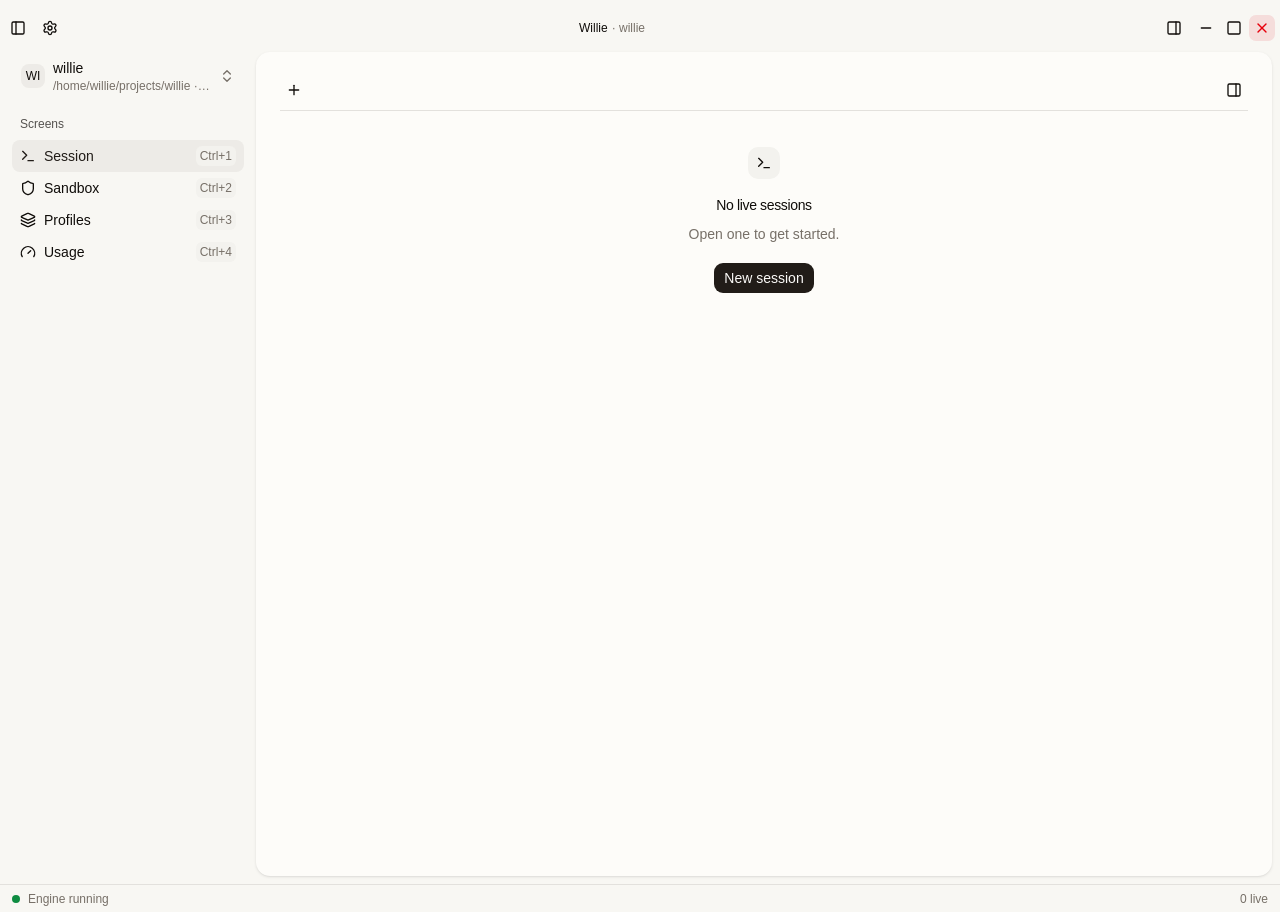
Test: the workspace panel › a_refused_shell_shows_its_remediation_not_a_terminal
The image size is (1280, 912).
Click the button named "Workspace panel" at (1174, 28), box [1160,14,1188,42]
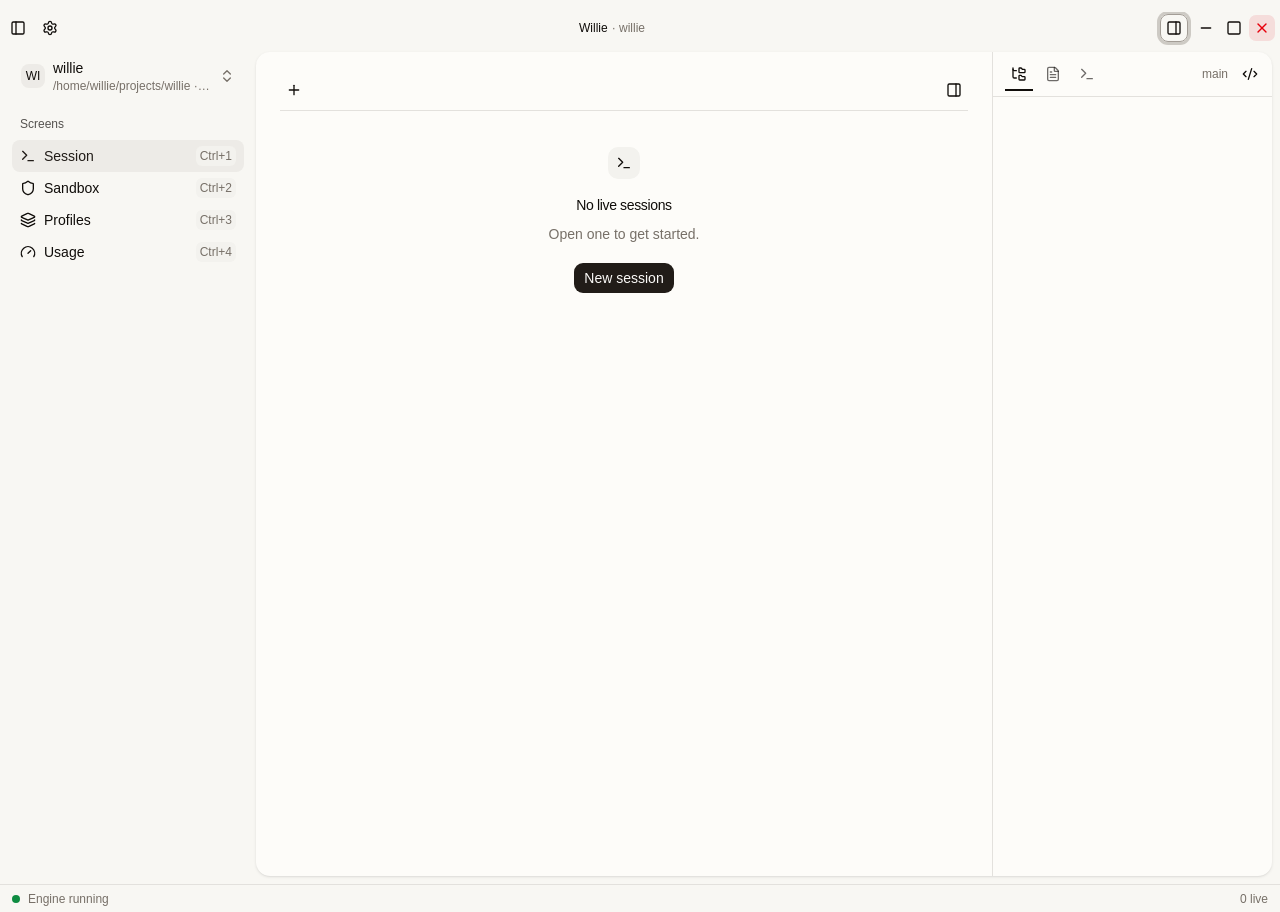
Click the tab named "Shell" at (1087, 74), box [1072,62,1102,86]
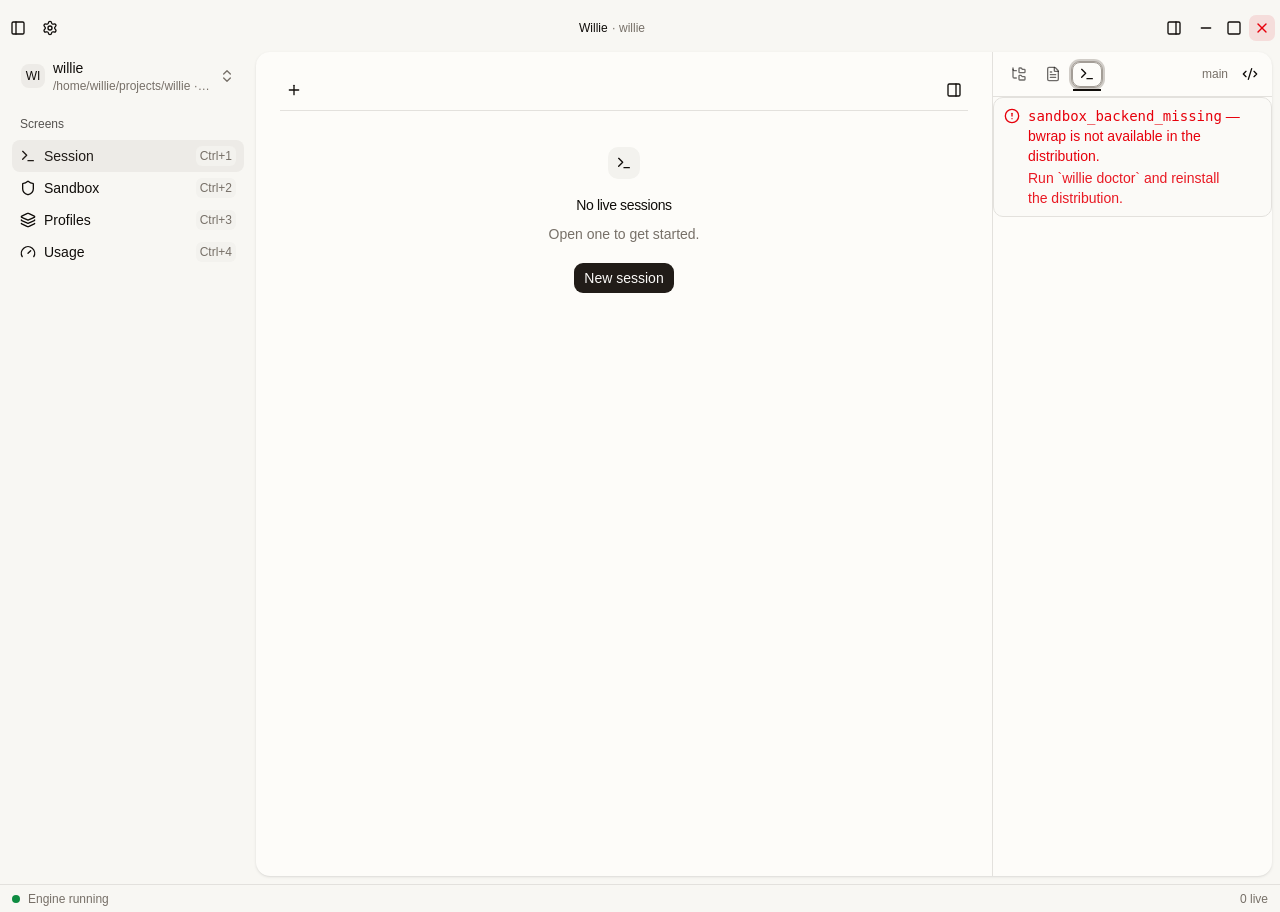
Expected: the text "Run `willie doctor` and reinstall the distribution." is shown, [1028,170,1219,206]
